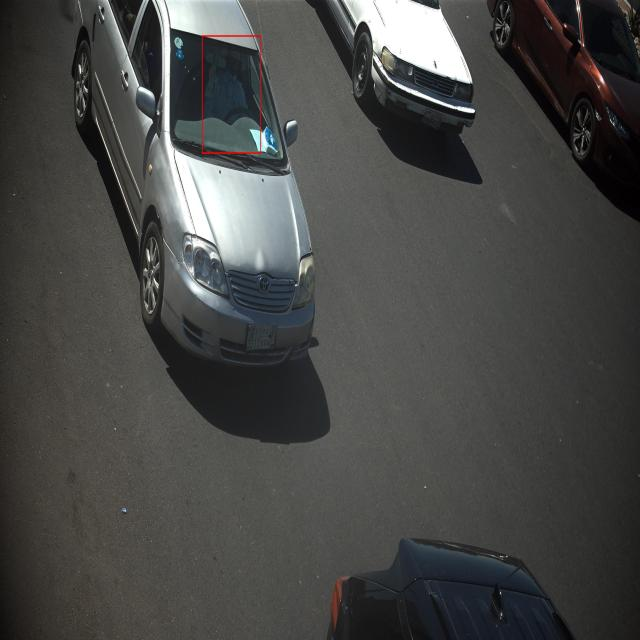windshield: (162, 22, 286, 172)
